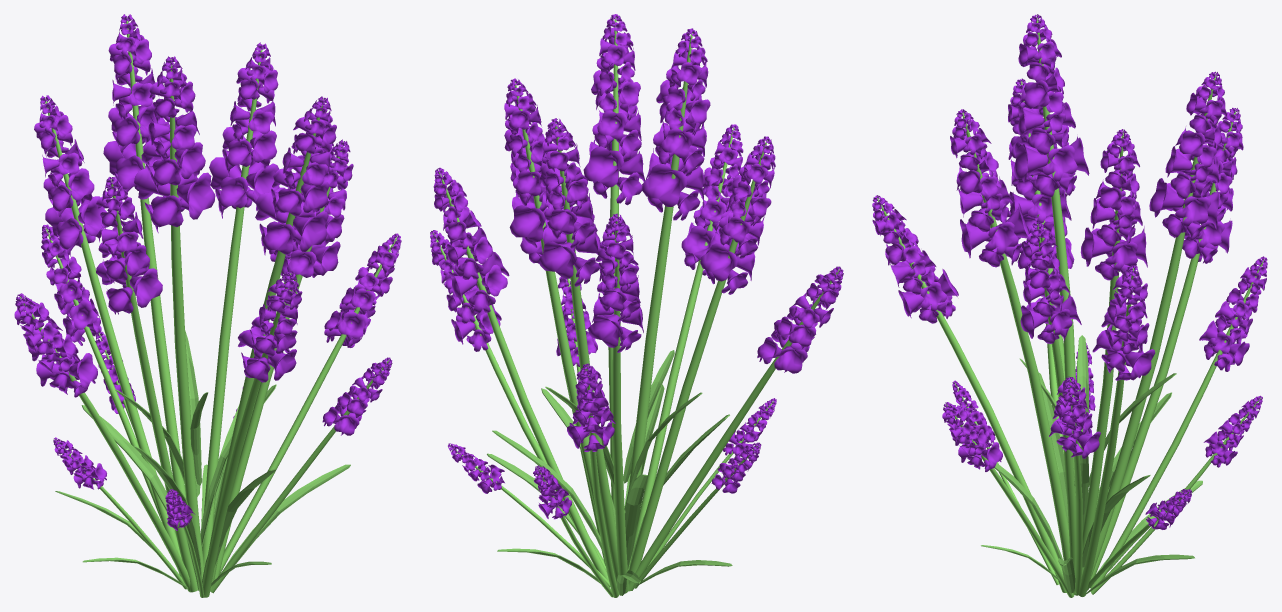
Rendered from Stage2lavender100%.fbx.
3 renders of one model, left to right at view 1: azimuth 30°, elevation 25°; view 2: azimuth 150°, elevation 25°; view 3: azimuth 270°, elevation 25°, orthographic.
Visible parts, largest first — view 1: main lavender.026, main lavender.027, main lavender.029, main lavender.028, main lavender.033, main lavender.030, main lavender.032, main lavender.041, main lavender.040, main lavender.035, main lavender.045, main lavender.038 (+11 smaller); view 2: main lavender.026, main lavender.028, main lavender.030, main lavender.029, main lavender.039, main lavender.033, main lavender.027, main lavender.041, main lavender.032, main lavender.045, main lavender.040, main lavender.047 (+11 smaller); view 3: main lavender.028, main lavender.029, main lavender.026, main lavender.027, main lavender.032, main lavender.039, main lavender.033, main lavender.035, main lavender.045, main lavender.040, main lavender.038, main lavender.030 (+9 smaller).
Boxes of the visible parts, box(x1,y1,x2,y2) form: main lavender.026: box(134, 56, 215, 590); main lavender.027: box(202, 42, 279, 567); main lavender.029: box(208, 96, 336, 590); main lavender.028: box(103, 14, 185, 498); main lavender.033: box(34, 95, 181, 576); main lavender.030: box(96, 176, 198, 592); main lavender.032: box(202, 270, 302, 597); main lavender.041: box(14, 293, 190, 591); main lavender.040: box(219, 233, 401, 574); main lavender.035: box(214, 139, 353, 579); main lavender.045: box(41, 224, 161, 521); main lavender.038: box(210, 357, 392, 593); main lavender.026: box(628, 28, 710, 570); main lavender.028: box(539, 118, 618, 583); main lavender.030: box(628, 136, 775, 591); main lavender.029: box(583, 14, 645, 509); main lavender.039: box(433, 167, 608, 580); main lavender.033: box(588, 213, 643, 593); main lavender.027: box(504, 78, 597, 521); main lavender.041: box(628, 266, 843, 590); main lavender.032: box(632, 124, 743, 552); main lavender.045: box(567, 363, 619, 597); main lavender.040: box(430, 230, 606, 570); main lavender.047: box(633, 442, 761, 588); main lavender.028: box(1089, 71, 1226, 581); main lavender.029: box(950, 109, 1074, 594); main lavender.026: box(1014, 14, 1089, 495); main lavender.027: box(1080, 129, 1147, 576); main lavender.032: box(872, 195, 1066, 592); main lavender.039: box(1078, 265, 1155, 596); main lavender.033: box(1090, 107, 1243, 580); main lavender.035: box(1020, 221, 1081, 593); main lavender.045: box(1090, 256, 1267, 588); main lavender.040: box(1049, 376, 1100, 595); main lavender.038: box(942, 402, 1074, 597); main lavender.030: box(1008, 78, 1071, 380).
Size of the model in its own units: 66.83 by 90.2 by 58.29.
